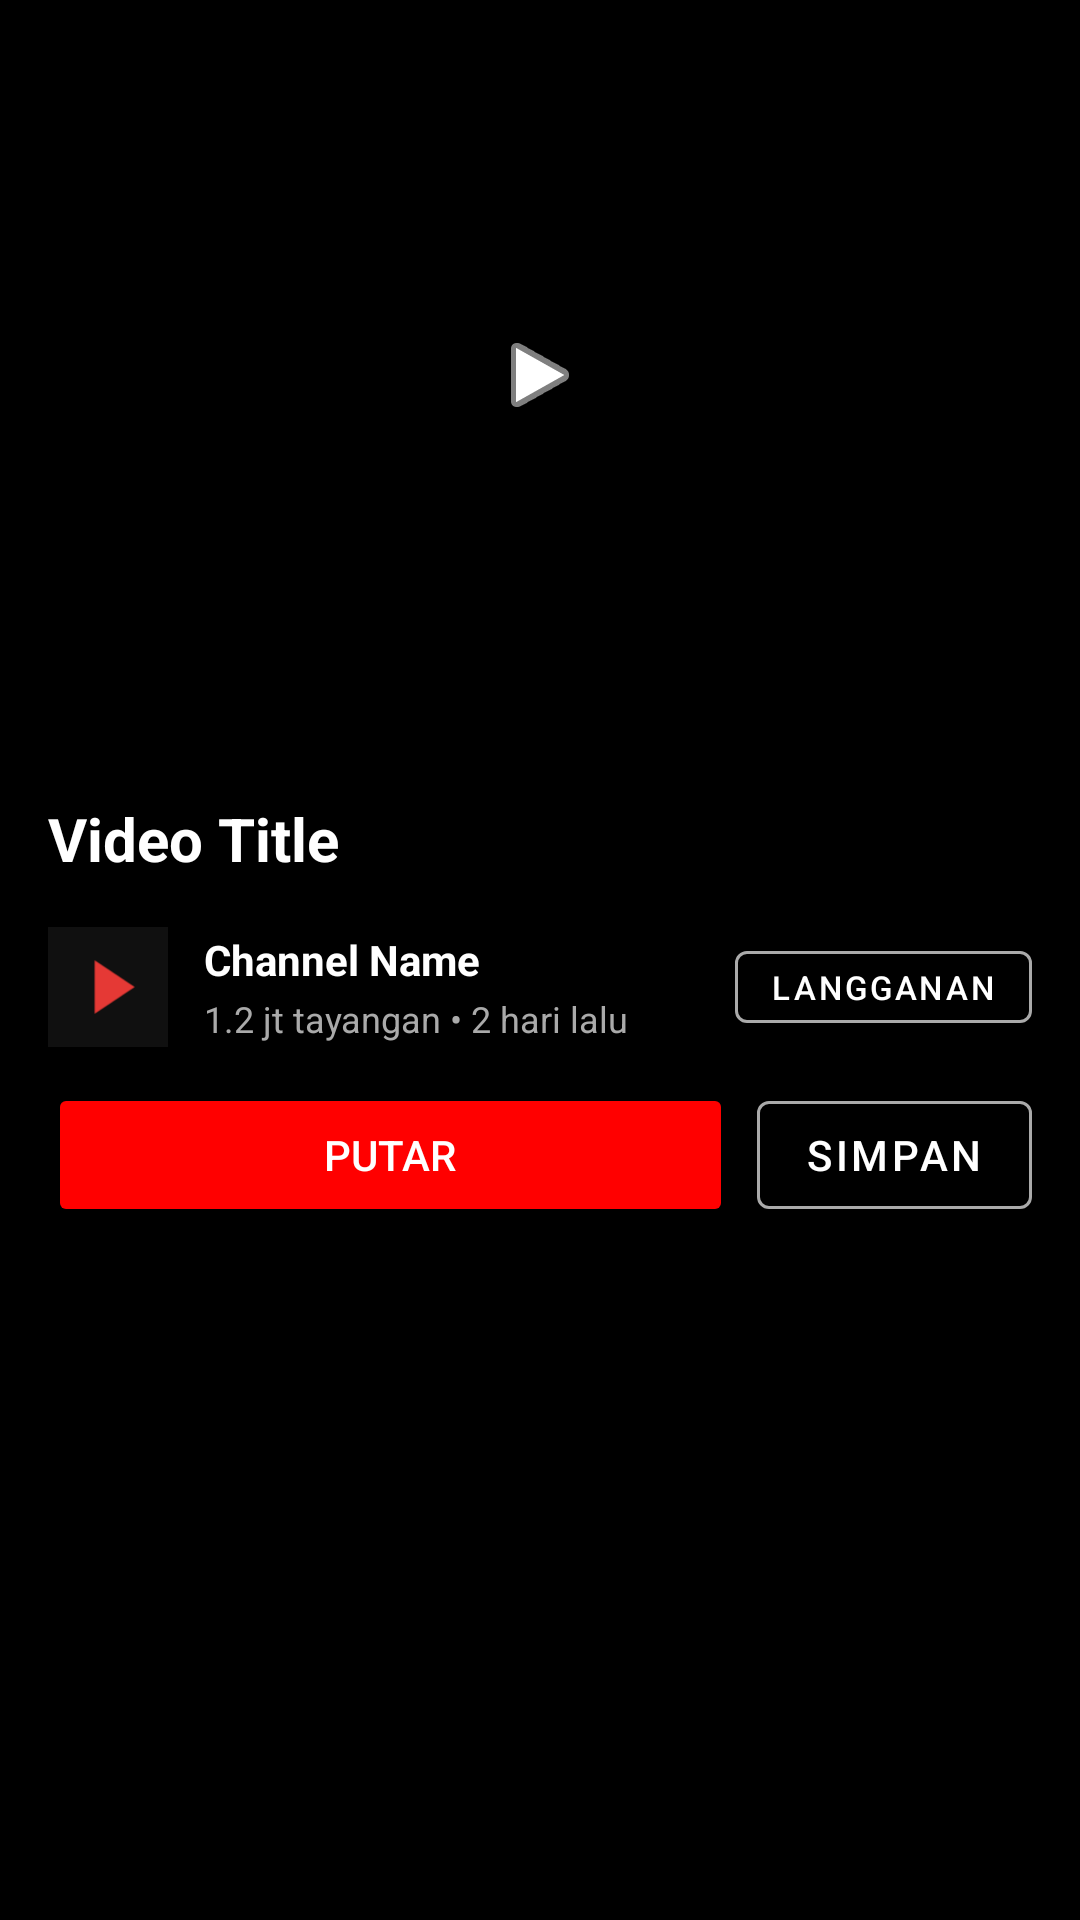

Icon click points for this 1080*1920 phone screenshot, format point (x, y):
Putar video: point (540, 375)
